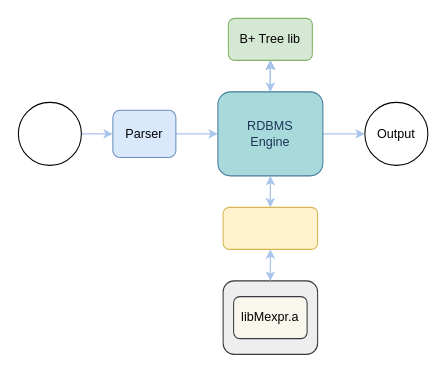
Image size: 446x373. Some labels were removed from this diagram. Each missing label, with the box of its shape:
Input: (17, 101, 81, 165)
SQL Interface: (222, 206, 318, 249)
